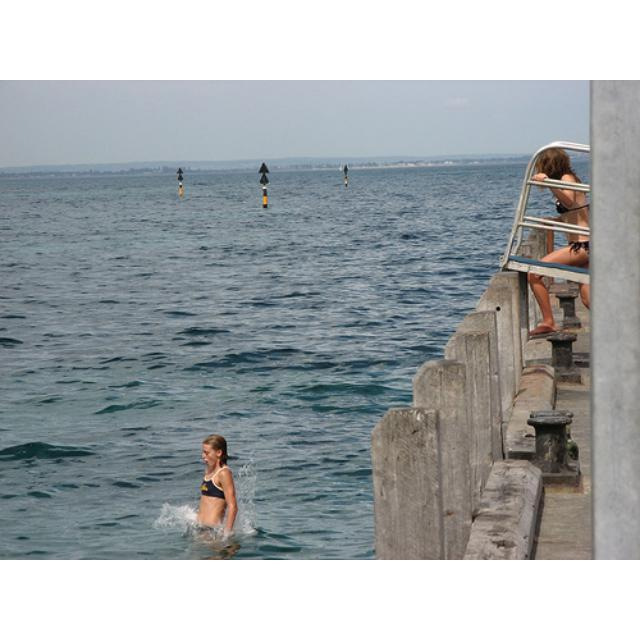human: (196, 432, 238, 538)
